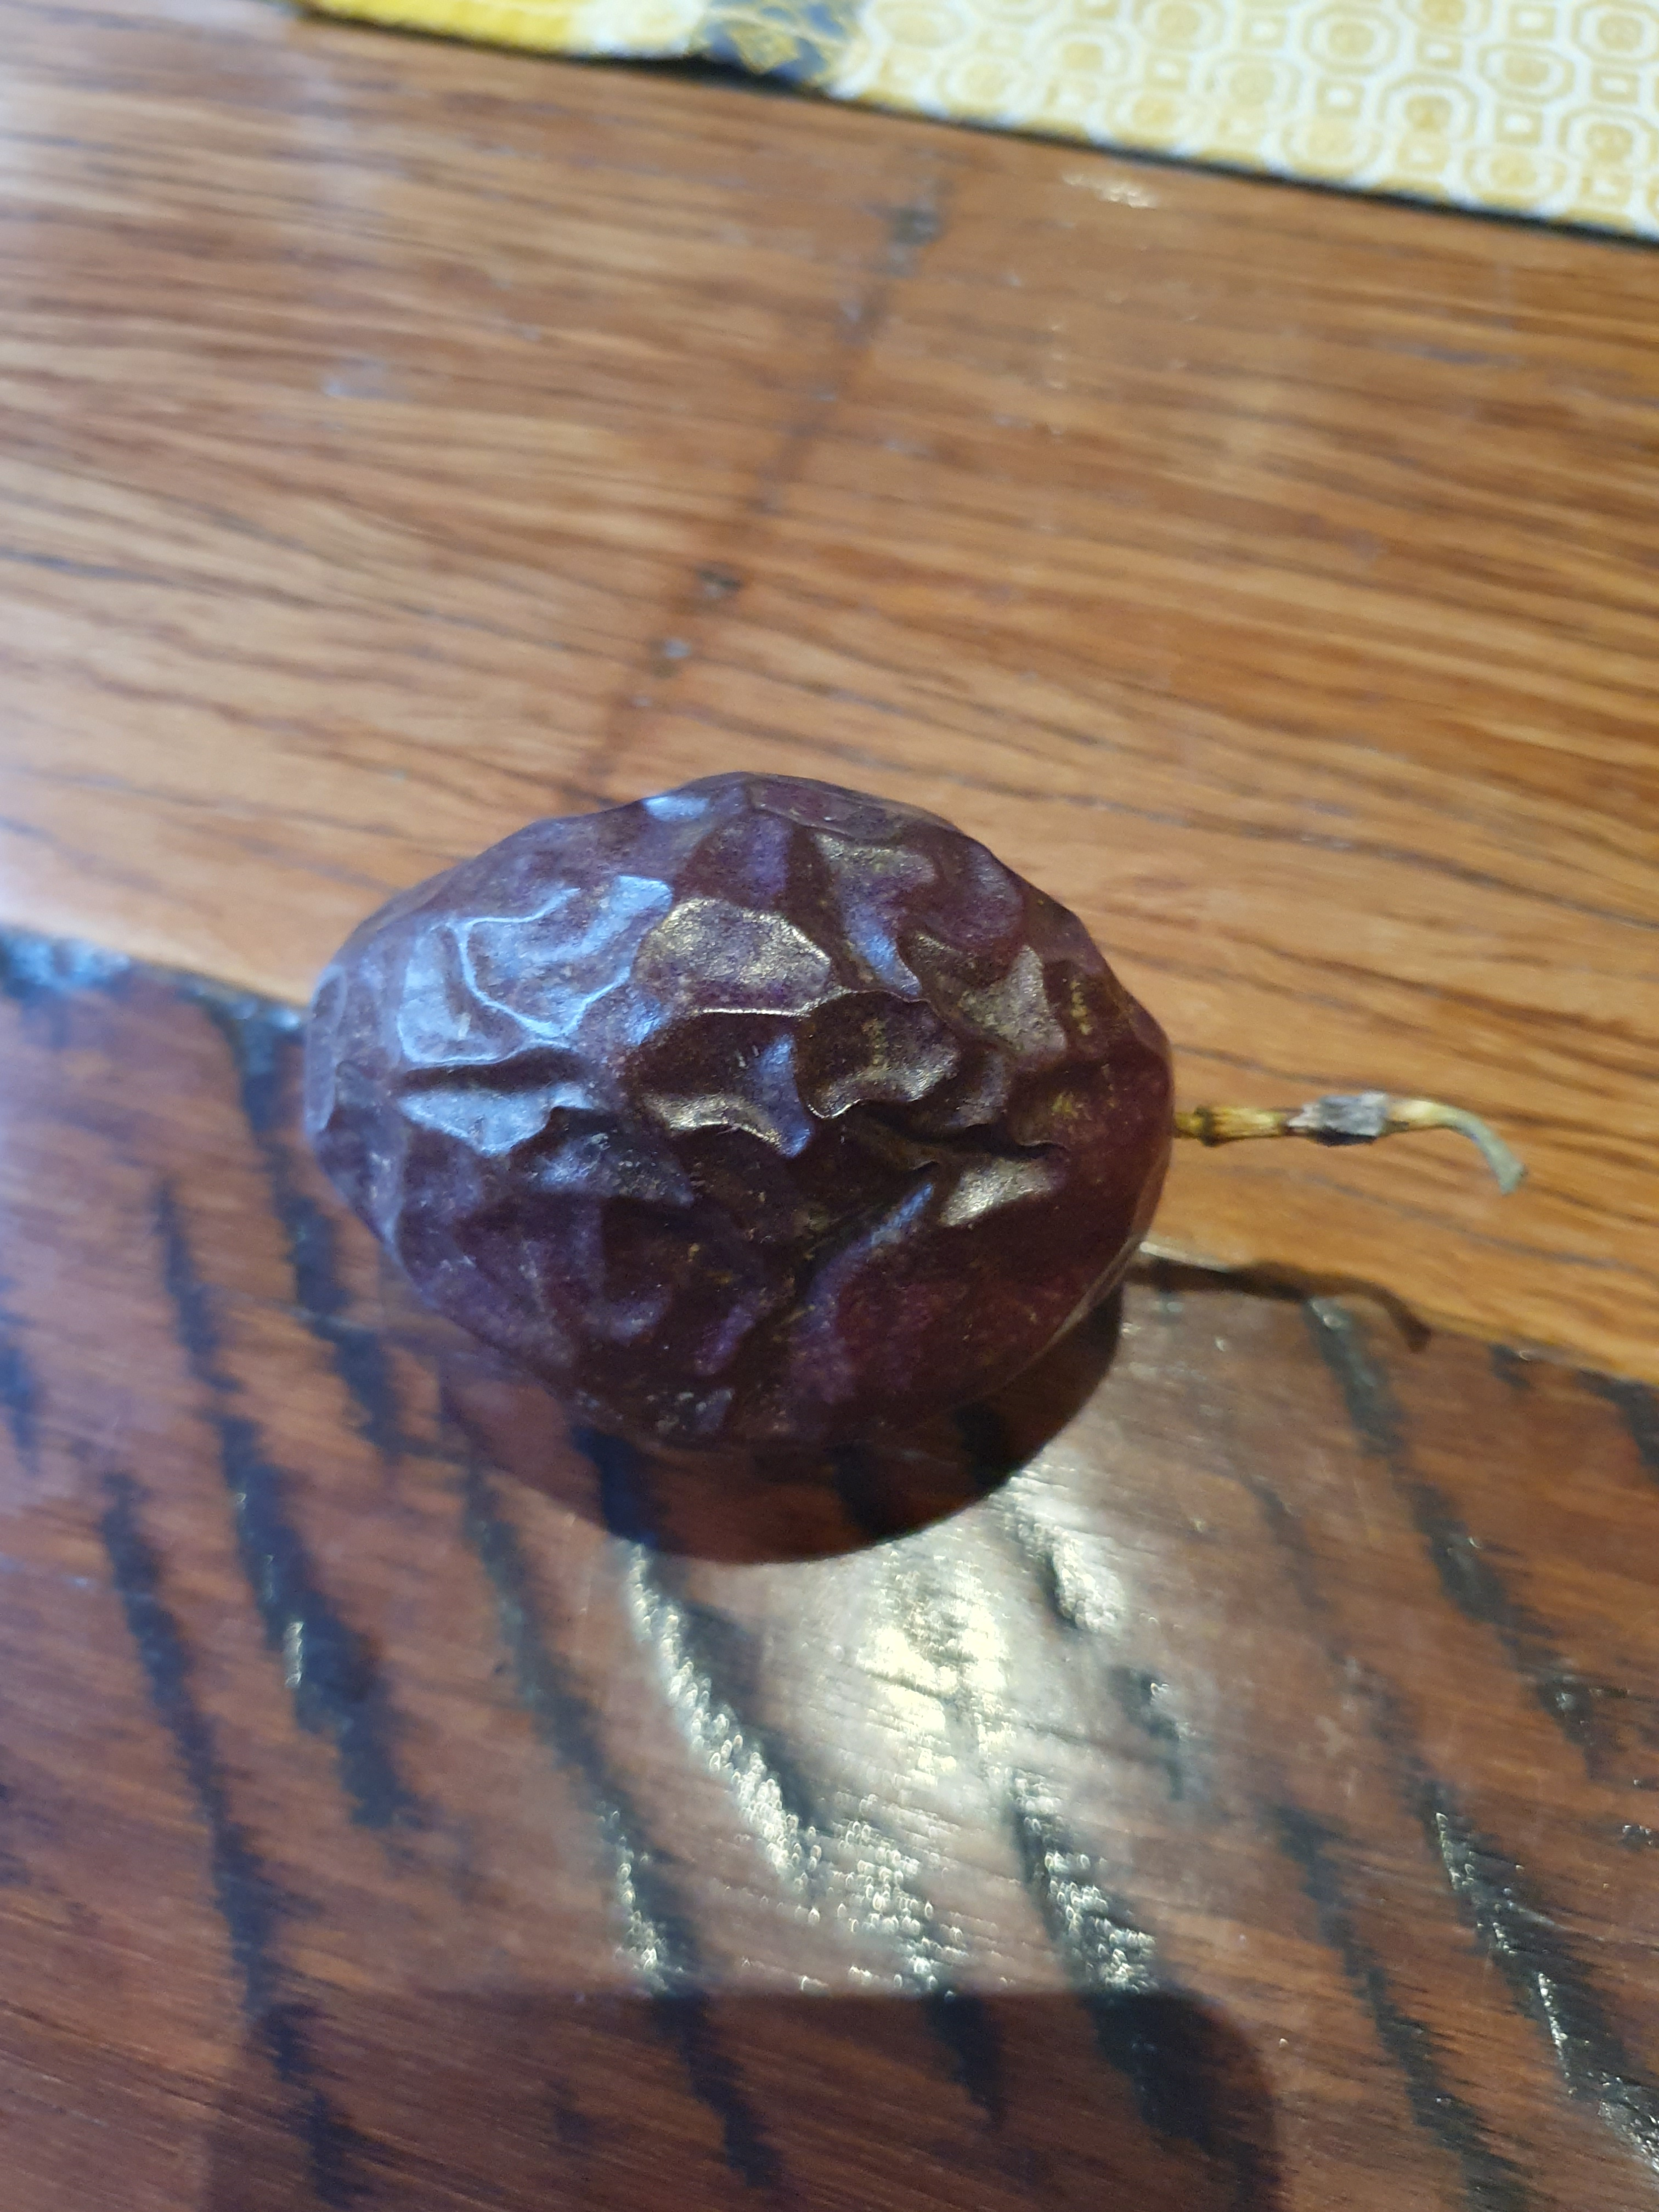passionfruit: (254, 712, 1549, 1463)
